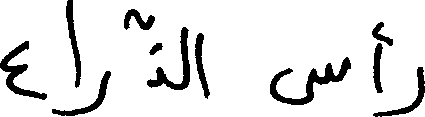أ: (370, 20, 382, 116)
ا: (63, 0, 82, 116), (193, 30, 212, 99)
ذ: (146, 12, 166, 88)
ر: (392, 64, 422, 114), (87, 69, 109, 112)
س: (267, 55, 347, 105)
ع: (0, 38, 29, 97)
ل: (178, 24, 188, 90)
